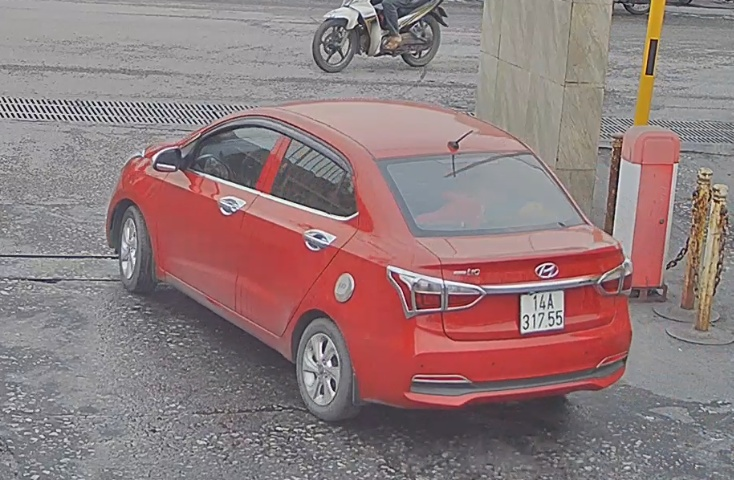vehicle plate: (510, 283, 571, 337)
